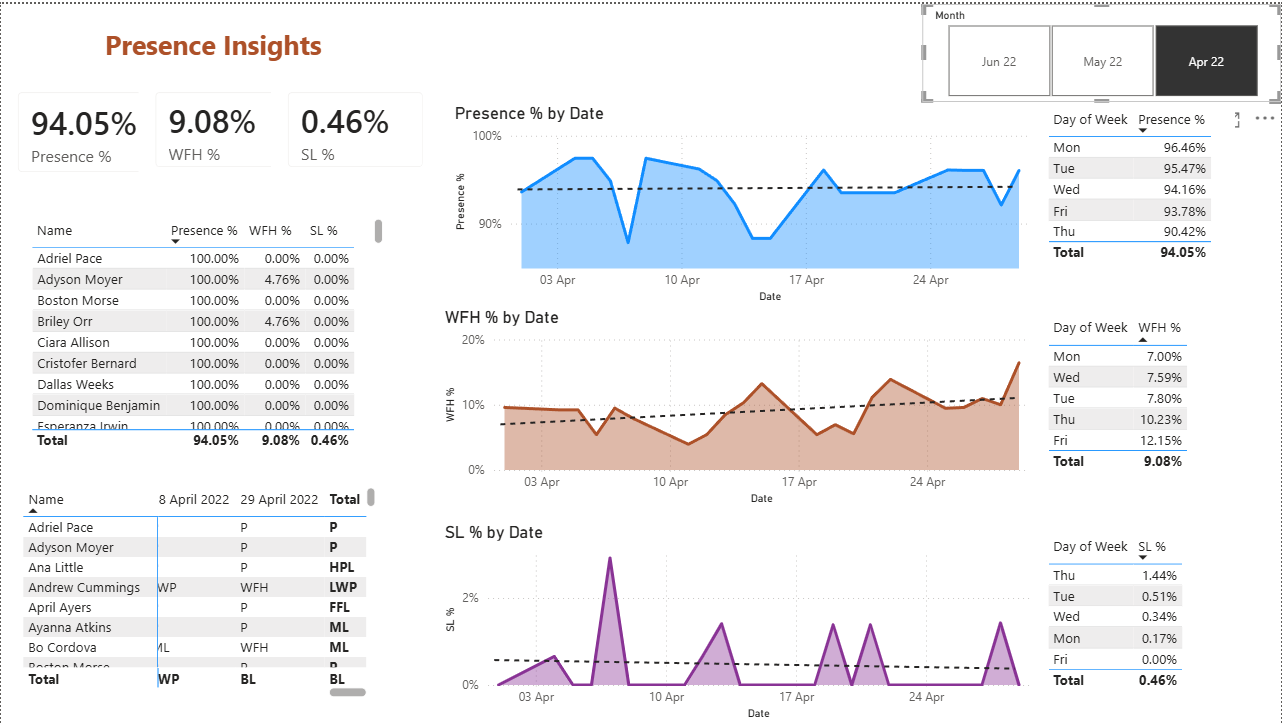

The dashboard page shown, as its layout file describes it:
{"tool":"powerbi","page":{"name":"Presence insights","canvas":[1280,720],"ordinal":0},"visuals":[{"type":"cardVisual","fields":{"Data":["Measure Table.Presence %"]},"box":[0,71,182,114],"z":2000},{"type":"slicer","fields":{"Values":["Final Data.Month"]},"box":[921,0,359,99],"z":3000},{"type":"cardVisual","fields":{"Data":["Measure Table.WFH %"]},"box":[138,71,169,109],"z":4000},{"type":"cardVisual","fields":{"Data":["Measure Table.SL %"]},"box":[270,71,169,109],"z":5000},{"type":"tableEx","fields":{"Values":["Final Data.Name","Measure Table.Presence %","Measure Table.WFH %","Measure Table.SL %"]},"box":[25,210,362,241],"z":5001},{"type":"textbox","box":[99,18,228,63],"z":5002},{"type":"pivotTable","fields":{"Rows":["Final Data.Name"],"Columns":["Final Data.Date"],"Values":["Min(Final Data.Value)"]},"box":[18,479,362,219],"z":5003},{"type":"areaChart","fields":{"Category":["Final Data.Date"],"Y":["Measure Table.Presence %"]},"box":[448.8,98.8,592.5,203.8],"z":5004},{"type":"areaChart","fields":{"Category":["Final Data.Date"],"Y":["Measure Table.WFH %"]},"box":[438.8,302.5,602.5,202.5],"z":5005},{"type":"areaChart","fields":{"Category":["Final Data.Date"],"Y":["Measure Table.SL %"]},"box":[438.8,517.5,602.5,202.5],"z":5006},{"type":"tableEx","fields":{"Values":["Final Data.Day of Week","Measure Table.Presence %"]},"box":[1041.2,98.8,192.5,171.2],"z":5007},{"type":"tableEx","fields":{"Values":["Final Data.Day of Week","Measure Table.WFH %"]},"box":[1041.2,307.5,177.5,171.2],"z":5008},{"type":"tableEx","fields":{"Values":["Final Data.Day of Week","Measure Table.SL %"]},"box":[1041.2,526.2,192.5,171.2],"z":5009}]}

Visuals, with their boxes in screenshot pixels (x1, y1, x2, y2), scaled from the page's 1280x720 canvas onto the 1282x723 screenshot:
cardVisual - Measure Table.Presence %: left=0, top=71, right=182, bottom=186
slicer - Final Data.Month: left=922, top=0, right=1281, bottom=99
cardVisual - Measure Table.WFH %: left=138, top=71, right=307, bottom=181
cardVisual - Measure Table.SL %: left=270, top=71, right=440, bottom=181
tableEx - Final Data.Name x Measure Table.Presence %: left=25, top=211, right=388, bottom=453
textbox: left=99, top=18, right=328, bottom=81
pivotTable - Final Data.Name x Final Data.Date: left=18, top=481, right=381, bottom=701
areaChart - Final Data.Date x Measure Table.Presence %: left=450, top=99, right=1043, bottom=304
areaChart - Final Data.Date x Measure Table.WFH %: left=439, top=304, right=1043, bottom=507
areaChart - Final Data.Date x Measure Table.SL %: left=439, top=520, right=1043, bottom=722
tableEx - Final Data.Day of Week x Measure Table.Presence %: left=1043, top=99, right=1236, bottom=271
tableEx - Final Data.Day of Week x Measure Table.WFH %: left=1043, top=309, right=1221, bottom=481
tableEx - Final Data.Day of Week x Measure Table.SL %: left=1043, top=528, right=1236, bottom=700
